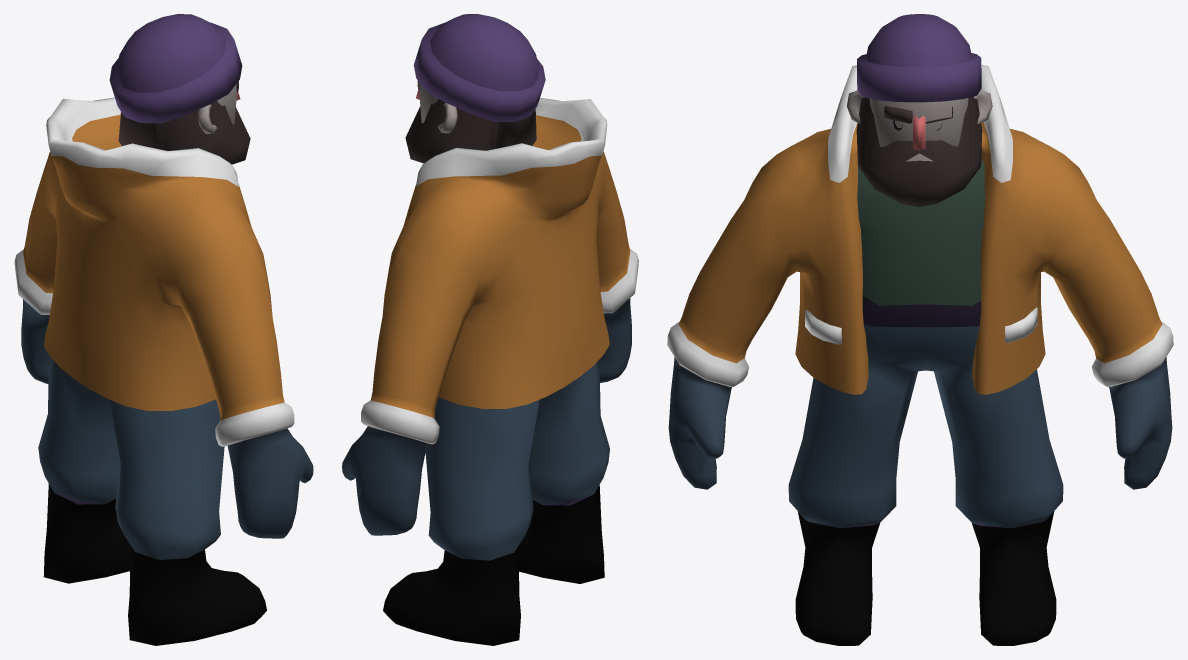
The model's file is charachter.fbx.
The picture shows the model from 3 angles, left to right: view 1: azimuth 30°, elevation 25°; view 2: azimuth 150°, elevation 25°; view 3: azimuth 270°, elevation 25°; orthographic projection. The views are drawn at different scales.
Parts seen in each view (by area): view 1: Plane.013; view 2: Plane.013; view 3: Plane.013.
Part boxes in pixels (x1,y1,x2,y2): Plane.013: (14,14,313,645); Plane.013: (342,14,638,645); Plane.013: (667,14,1173,645).
Bounding box in the file's own units: 190 × 540 × 409.
